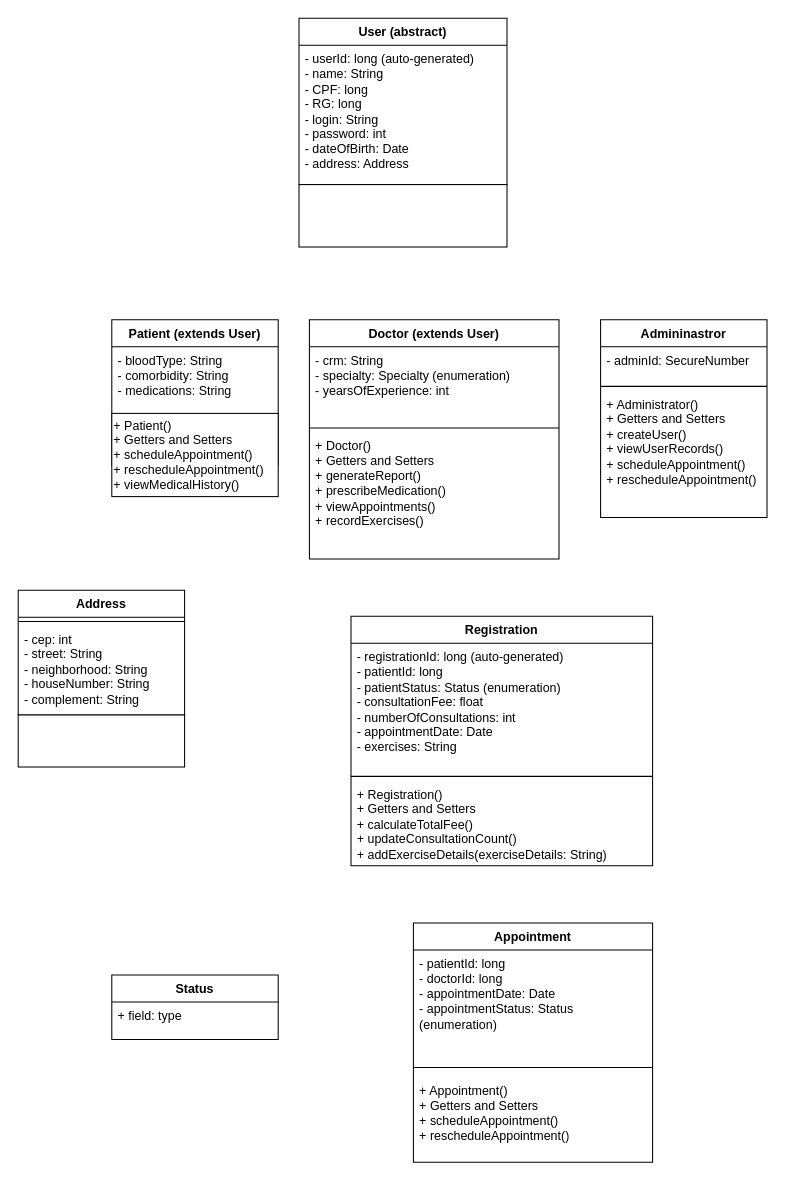
Image size: 785x1184. Some labels were removed from this diagram. Here are the shapes that lost their labels. From the top down, the centre of each, then its label:
pixel 402 215: + User() + Getters and Setters + {protected abstract} login(): void
pixel 101 740: + Address() + Getters and Setters
